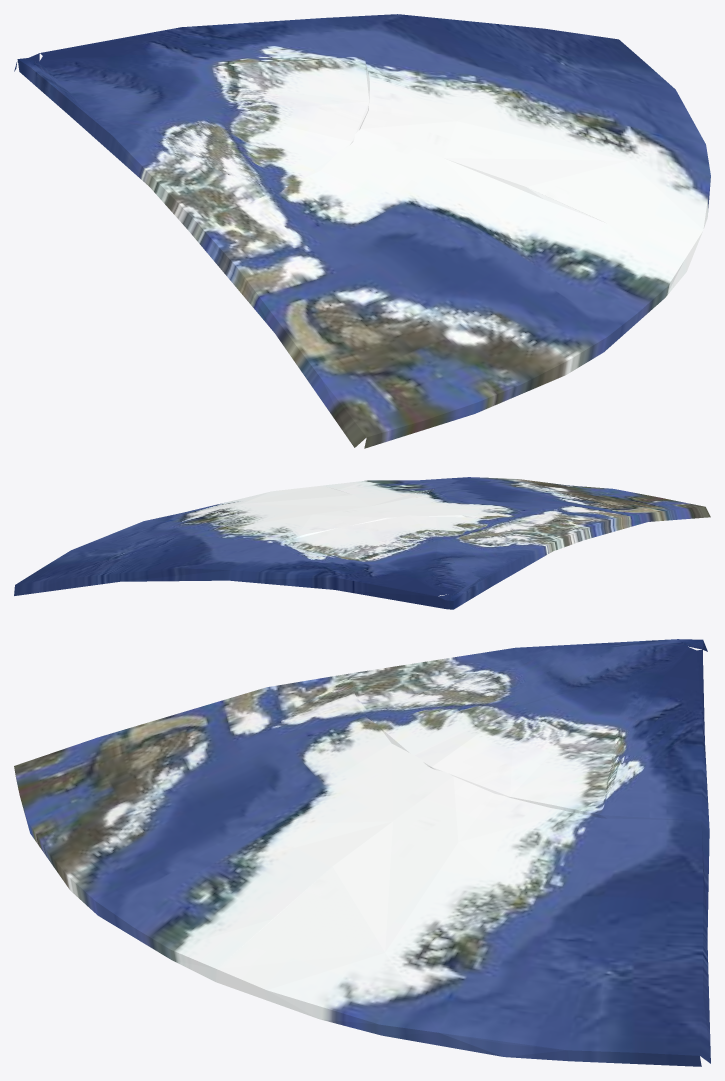
The picture shows the model from 3 angles, top to bottom: view 1: azimuth 30°, elevation 25°; view 2: azimuth 150°, elevation 25°; view 3: azimuth 270°, elevation 25°; orthographic projection. The views are drawn at different scales.
Size of the model in its own units: 2492278 by 550829 by 2492248.
1 material, 1 textured.
